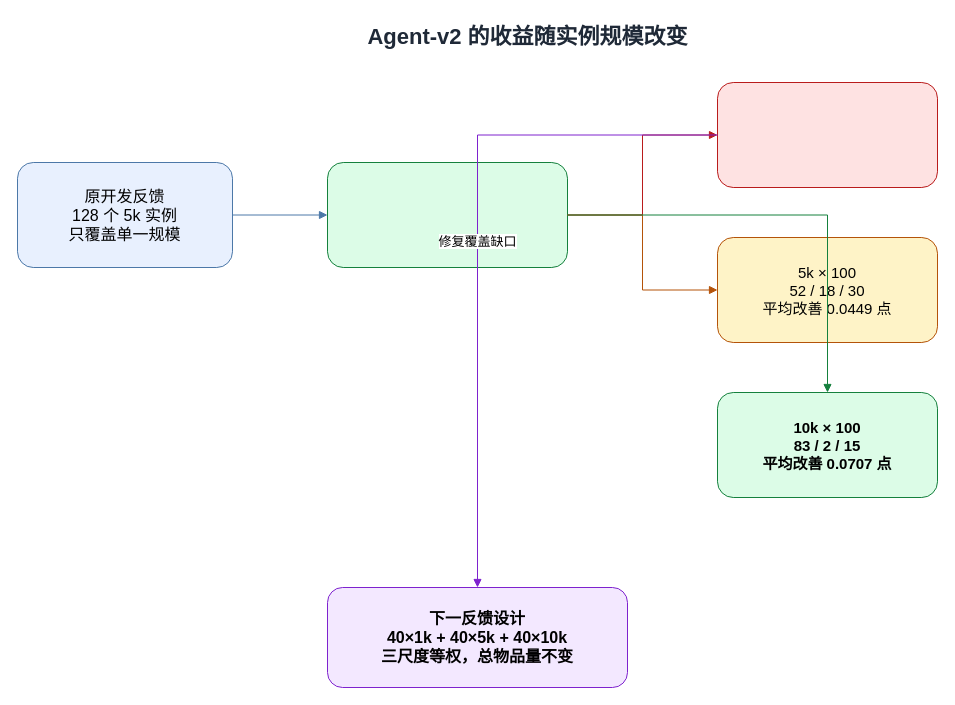
Some shapes in this 955 by 705 pixel diagram are drawn without their labels. Each missing label, with the centre of its shape:
"1k × 100 28 / 18 / 54 平均变差 0.1743 点" goes at (x=827, y=135).
"目标反馈 Agent-v2 自动改善开发值 3.887%" goes at (x=447, y=215).
